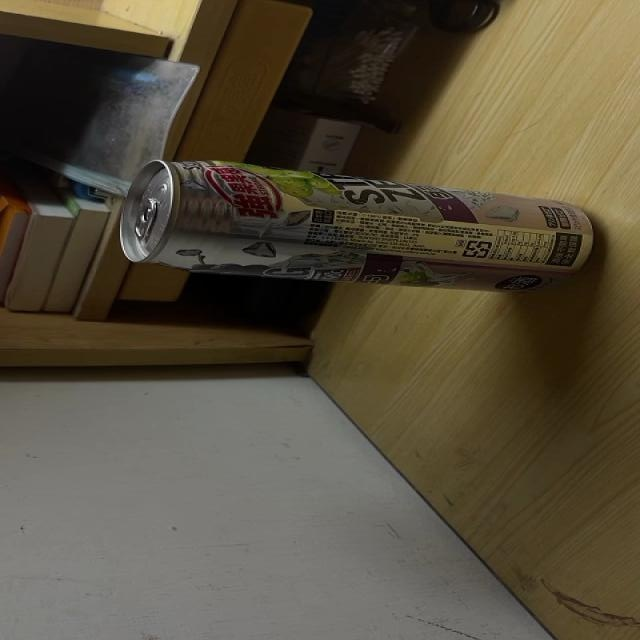Liquor: (118, 159, 594, 296)
